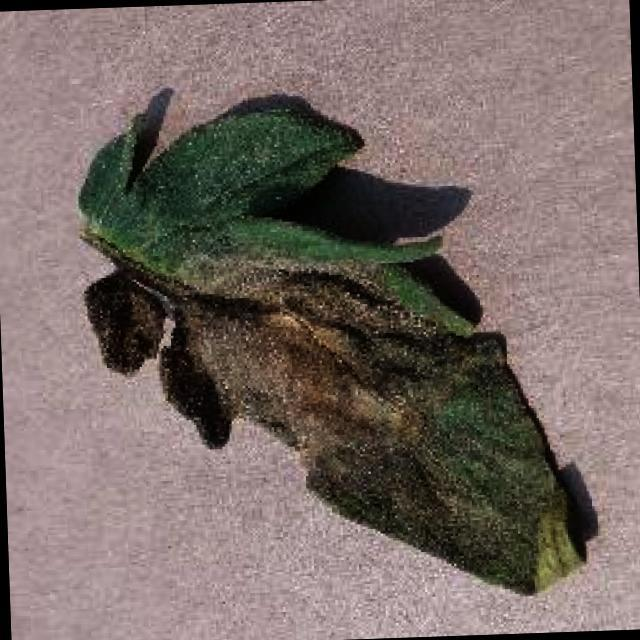Tomato late blight leaf: (74, 94, 588, 610)
